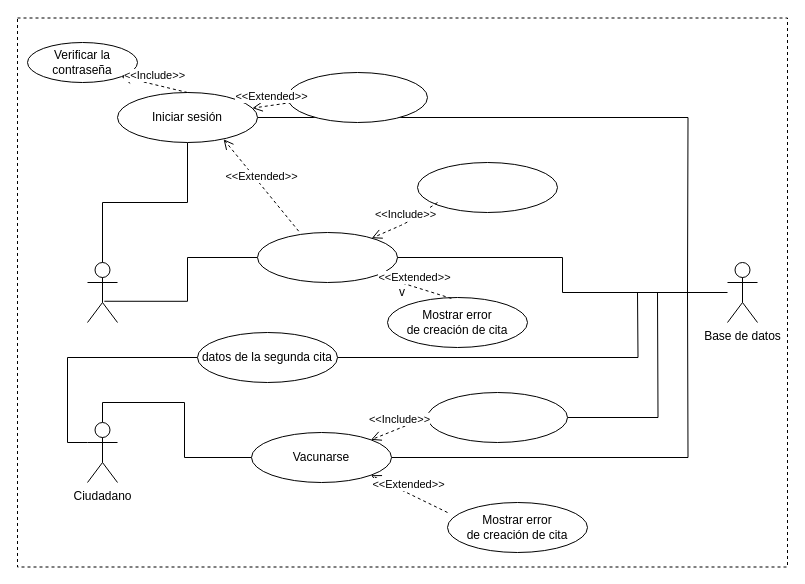
The diagram is 805 pixels wide and 584 high, and some of its shapes have lost their labels. The centre of each missing label's shape, as x and y in pixels:
Crear cita: (327,257)
datos de la vacunación: (497,417)
Empleado: (102,292)
Mostrar error de inicio de sesión: (357,97)
Pedir datos: (487,187)
